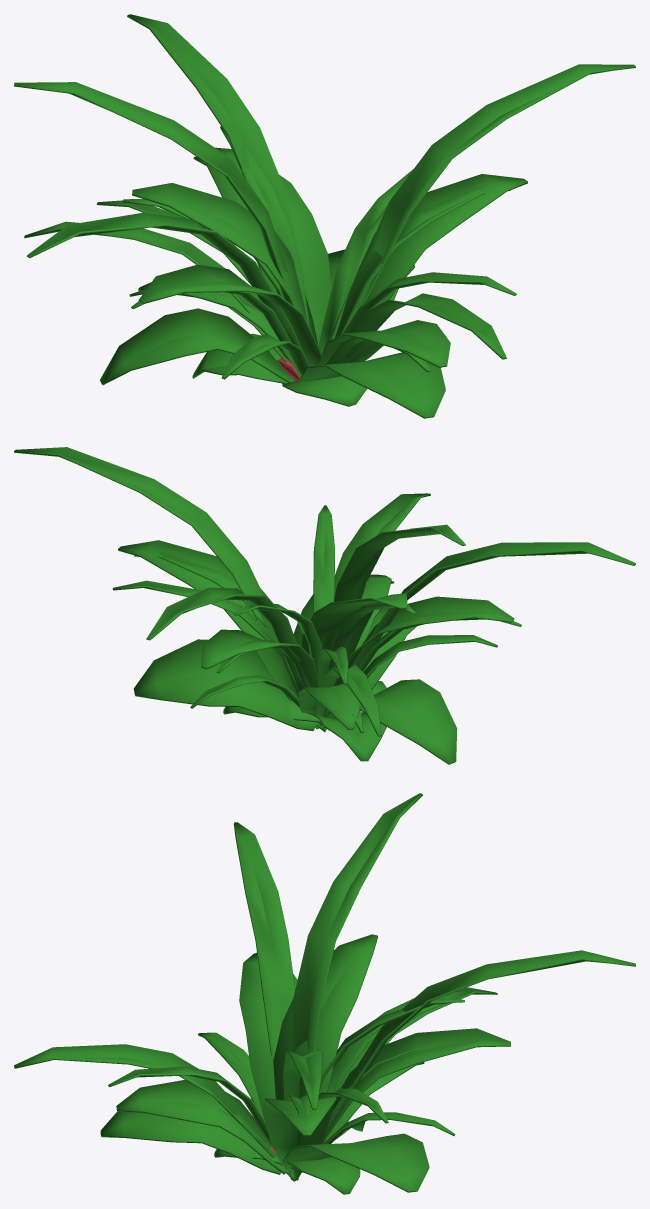
File: Hierbas.fbx
3 renders of one model, top to bottom at view 1: azimuth 30°, elevation 25°; view 2: azimuth 150°, elevation 25°; view 3: azimuth 270°, elevation 25°, orthographic. The views are drawn at different scales.
Parts seen in each view (by area): view 1: VEG.002, VEG.003, VEG, VEG.004, VEG.005; view 2: VEG.002, VEG.003, VEG.004, VEG, VEG.005; view 3: VEG.002, VEG.003, VEG.004, VEG, VEG.005.
Boxes of the visible parts, bbox=[...] form: VEG.002: bbox=[14, 14, 635, 365]; VEG.003: bbox=[132, 147, 527, 367]; VEG: bbox=[96, 126, 516, 379]; VEG.004: bbox=[100, 249, 445, 418]; VEG.005: bbox=[192, 333, 366, 406]; VEG.002: bbox=[14, 447, 635, 736]; VEG.003: bbox=[118, 540, 514, 729]; VEG.004: bbox=[133, 608, 457, 764]; VEG: bbox=[112, 505, 521, 732]; VEG.005: bbox=[223, 681, 386, 761]; VEG.002: bbox=[14, 793, 635, 1165]; VEG.003: bbox=[116, 934, 510, 1181]; VEG.004: bbox=[100, 1111, 429, 1192]; VEG: bbox=[108, 952, 466, 1156]; VEG.005: bbox=[214, 1122, 364, 1194].
Bounding box in the file's own units: 256 × 118 × 235.
